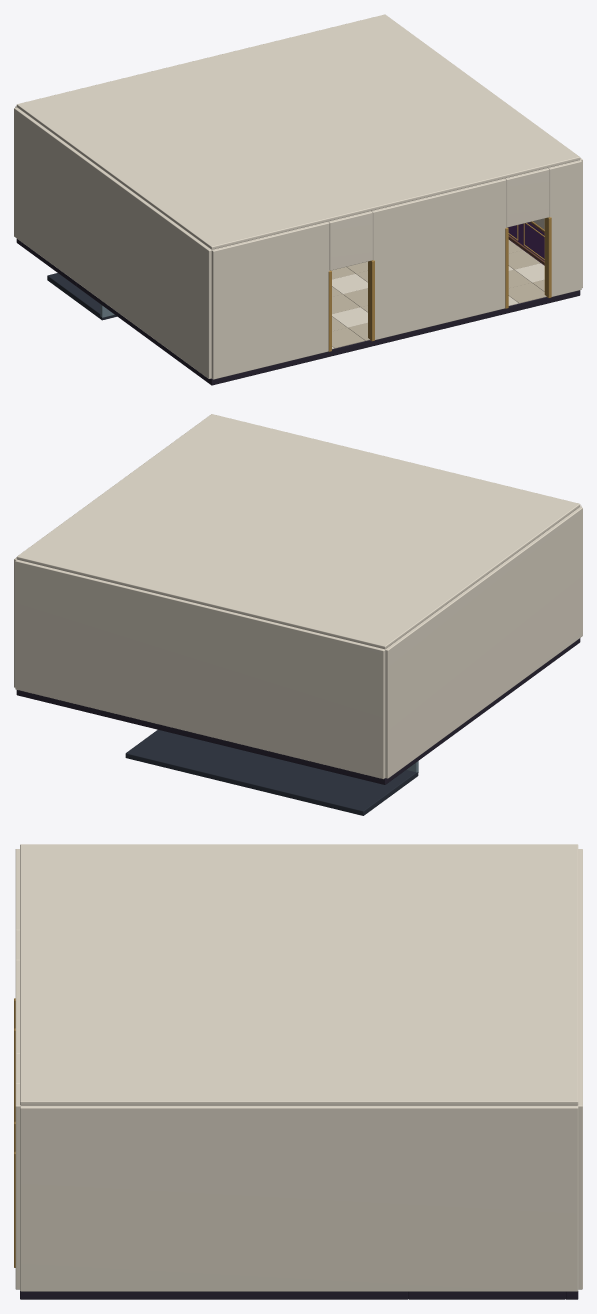
The model's file is core_external_inspection.glb.
3 renders of one model, top to bottom at view 1: azimuth 30°, elevation 25°; view 2: azimuth 150°, elevation 25°; view 3: azimuth 270°, elevation 25°, orthographic. The views are drawn at different scales.
Parts seen in each view (by area): view 1: core_ceiling, structural_wall.001, core_front_segment.001, core_front_segment, core_front_segment.002, segmented_floor, core_entry_lintel, core_entry_lintel.001, violet_wainscot.002, service_well_lower_floor, core_entry_jamb.003, core_entry_jamb.001 (+3 smaller); view 2: core_ceiling, structural_wall, structural_wall.001, service_well_lower_floor, segmented_floor.001, segmented_floor; view 3: core_ceiling, structural_wall.002, segmented_floor, structural_wall, segmented_floor.003, core_front_segment.002.
Boxes of the visible parts, x1,y1,x2,y2 form: core_ceiling: (16,14,580,249); structural_wall.001: (14,107,211,378); core_front_segment.001: (371,178,506,339); core_front_segment: (211,221,329,379); core_front_segment.002: (548,160,581,296); segmented_floor: (76,282,580,385); core_entry_lintel: (328,211,372,270); core_entry_lintel.001: (505,168,549,227); violet_wainscot.002: (508,222,544,265); service_well_lower_floor: (47,273,116,320); core_entry_jamb.003: (544,217,551,298); core_entry_jamb.001: (368,260,374,341); core_ceiling: (16,414,580,649); structural_wall: (15,559,385,778); structural_wall.001: (385,507,582,778); service_well_lower_floor: (125,730,418,815); segmented_floor.001: (16,690,389,784); segmented_floor: (444,638,580,741); core_ceiling: (20,844,578,1105); structural_wall.002: (20,1105,578,1291); segmented_floor: (20,1291,408,1299); structural_wall: (578,849,582,1289); segmented_floor.003: (408,1291,565,1299); core_front_segment.002: (15,1083,20,1289).
Size of the model in its own units: 12.18 by 5.58 by 11.21.
